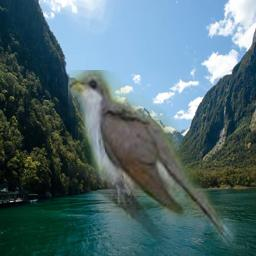Cuckoo: (68, 70, 237, 249)
